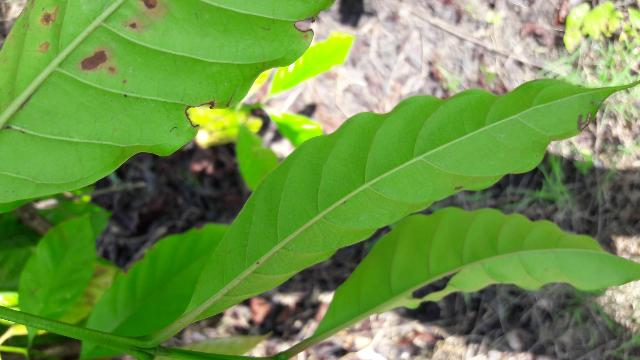healthy: (186, 79, 620, 319)
